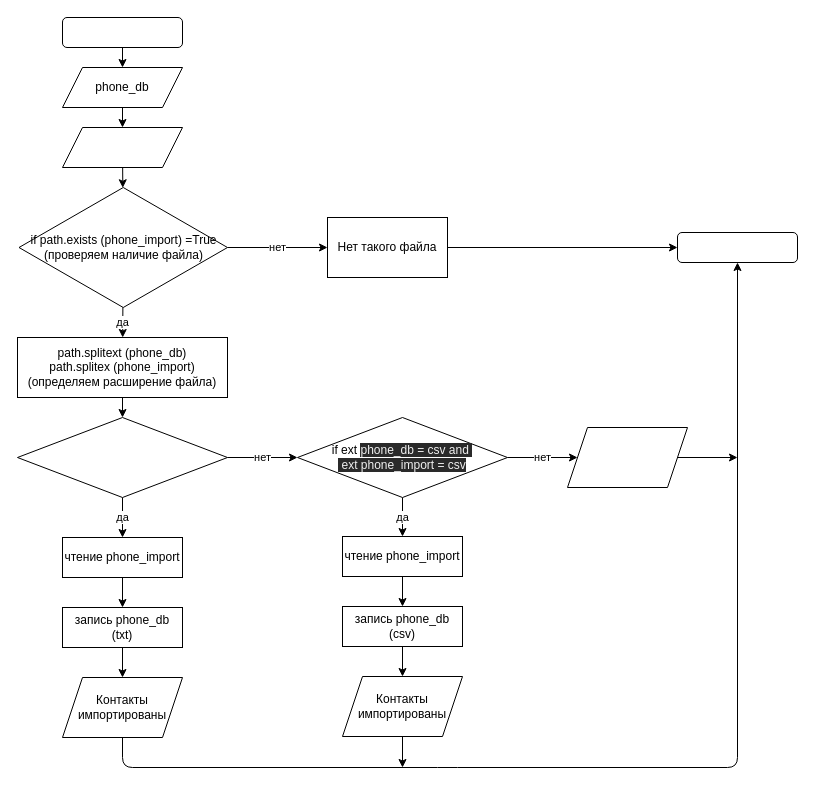
Image size: 815x793. Some labels were removed from this diagram. Here are the shapes that lost their labels. From the top down, the box of each, then its label:
(62, 16, 182, 48): Start
(62, 126, 182, 168): phone_import
(676, 232, 798, 262): End
(16, 416, 228, 498): if ext phone_db = txt and ext phone_import = txt
(566, 426, 688, 488): Невозможно импортировать контакты
